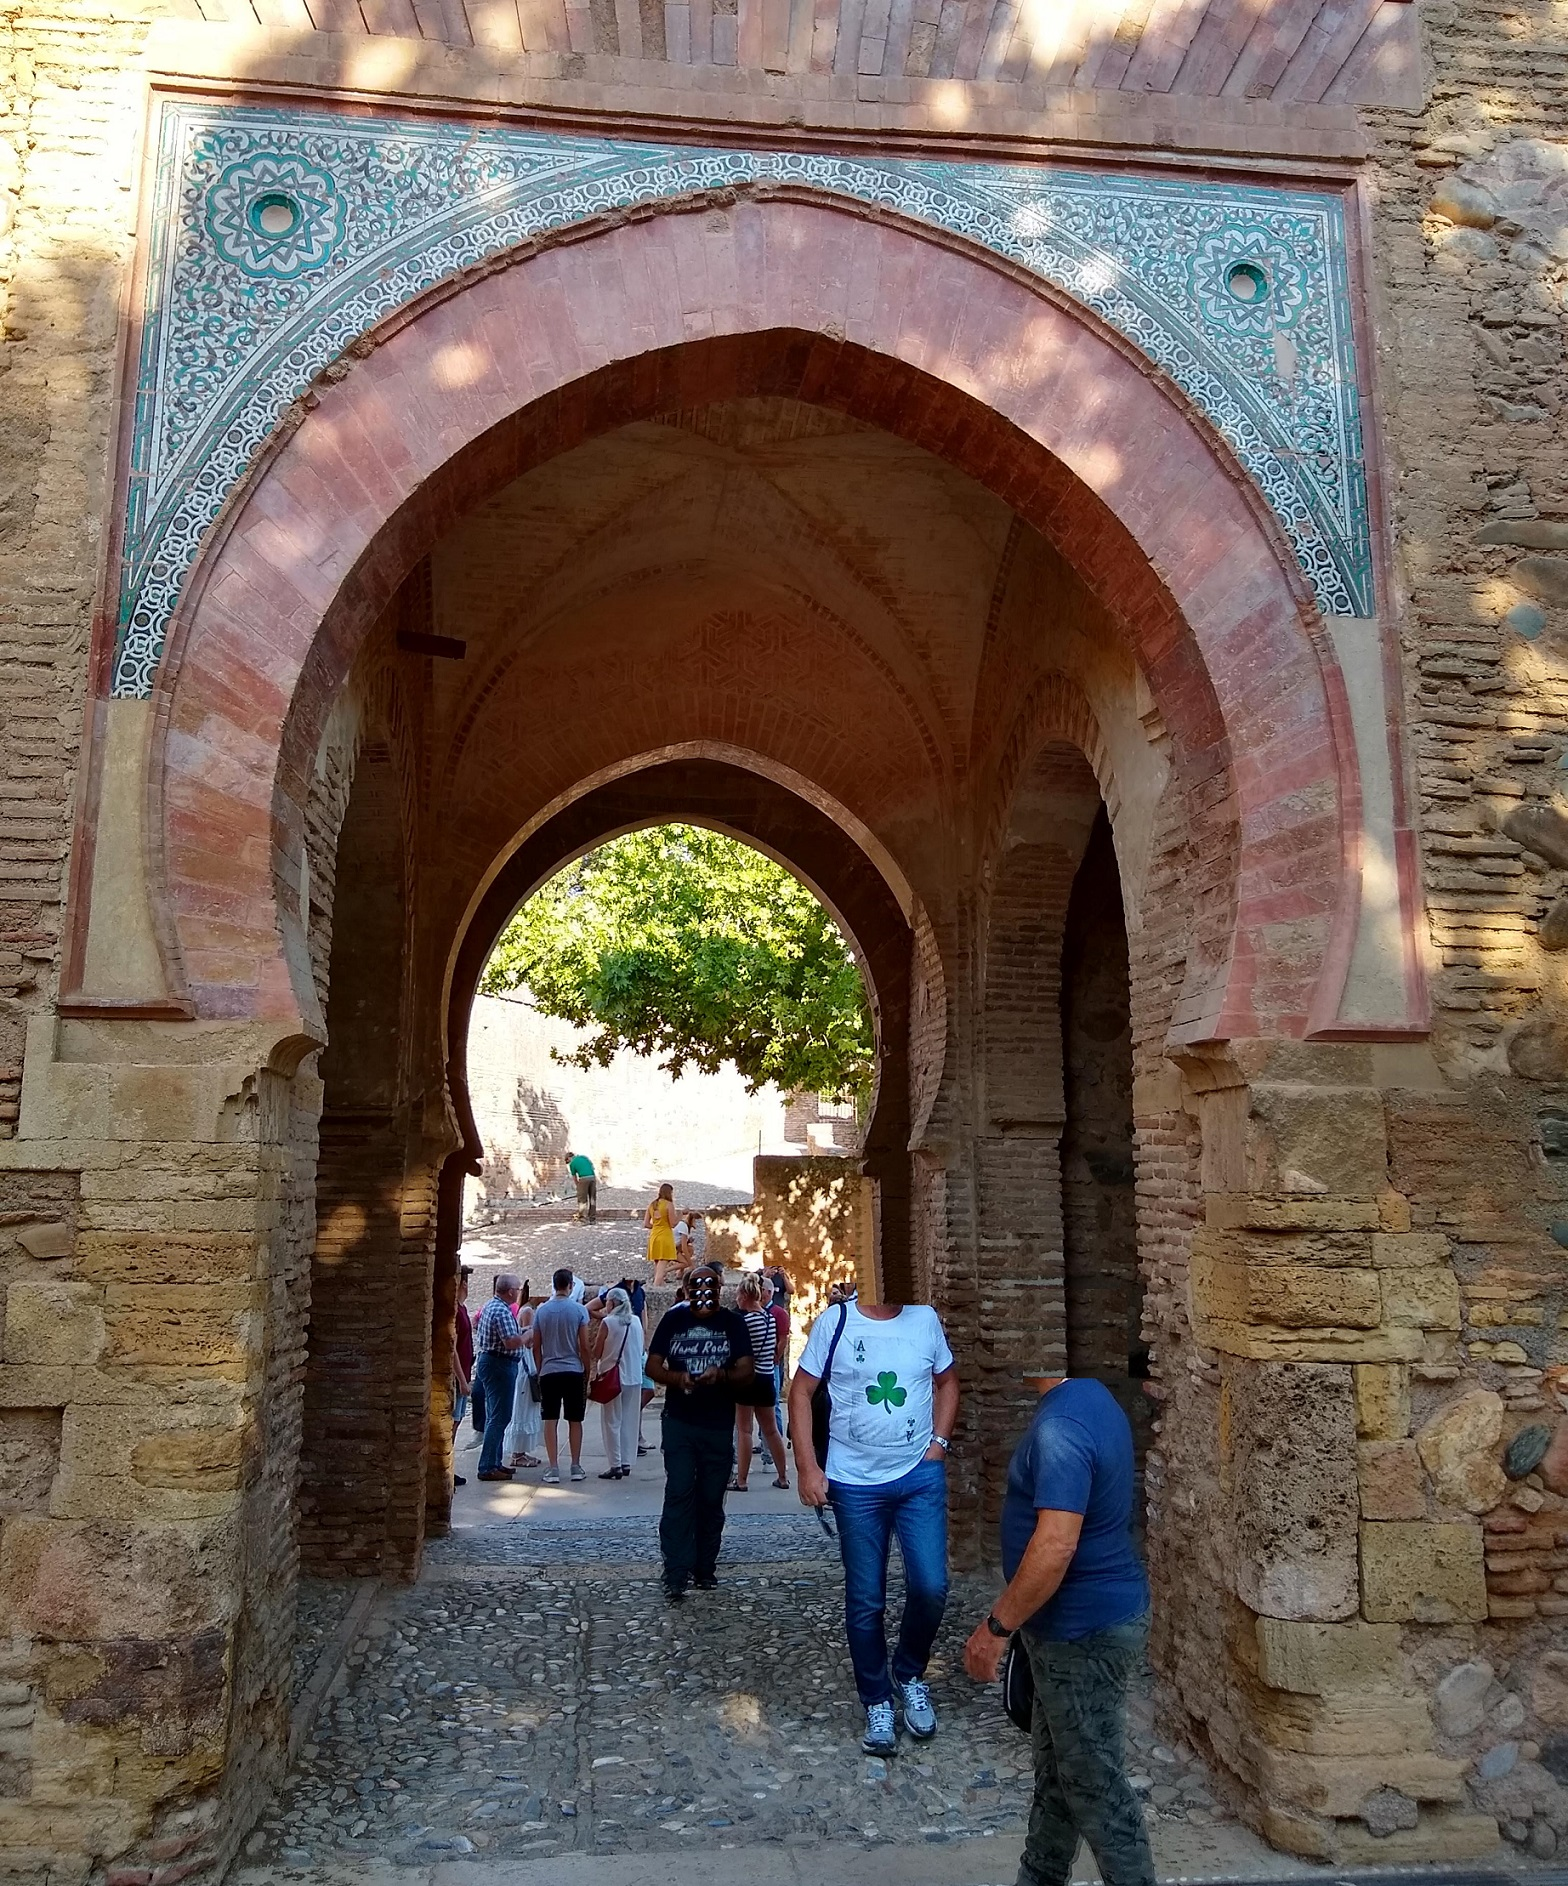arco-herradura: (204, 280, 1303, 1125)
dintel-adovelado: (172, 2, 1407, 124)
